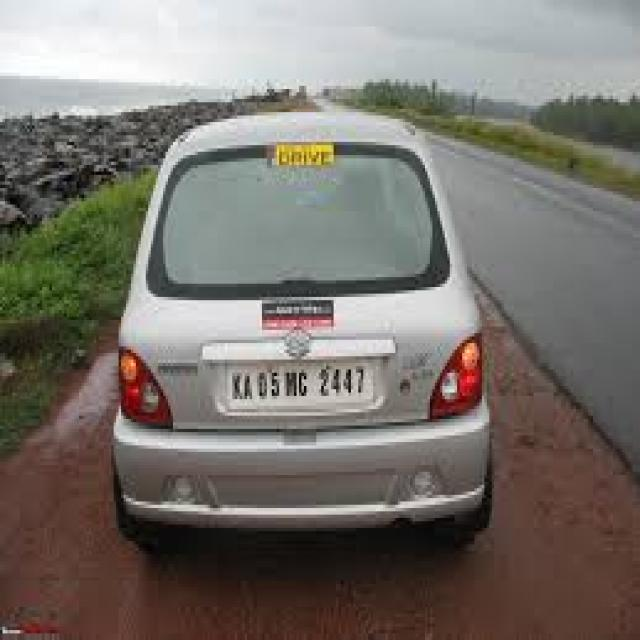Number-Plate: (228, 364, 373, 407)
